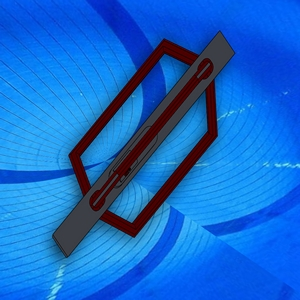submarine: (46, 27, 247, 264)
